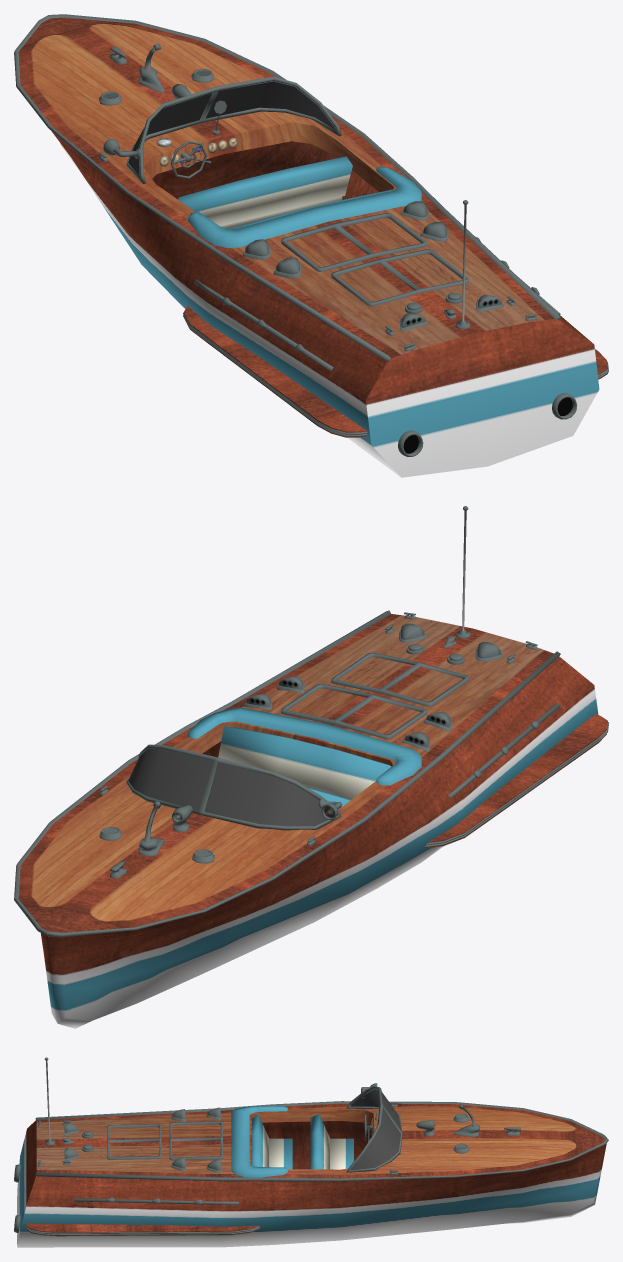
Rendered from boatWoody.dae.
The picture shows the model from 3 angles, top to bottom: view 1: azimuth 30°, elevation 25°; view 2: azimuth 150°, elevation 25°; view 3: azimuth 270°, elevation 25°; orthographic projection. The views are drawn at different scales.
Visible parts, largest first — view 1: boat1; view 2: boat1; view 3: boat1.
Boxes of the visible parts, x1,y1,x2,y2 form: boat1: (14, 14, 608, 477); boat1: (14, 506, 608, 1028); boat1: (14, 1057, 608, 1247).
Size of what is drawn, in the model's own units: 2.47 by 2.09 by 6.71.
Materials: 4 (4 with a texture image).
